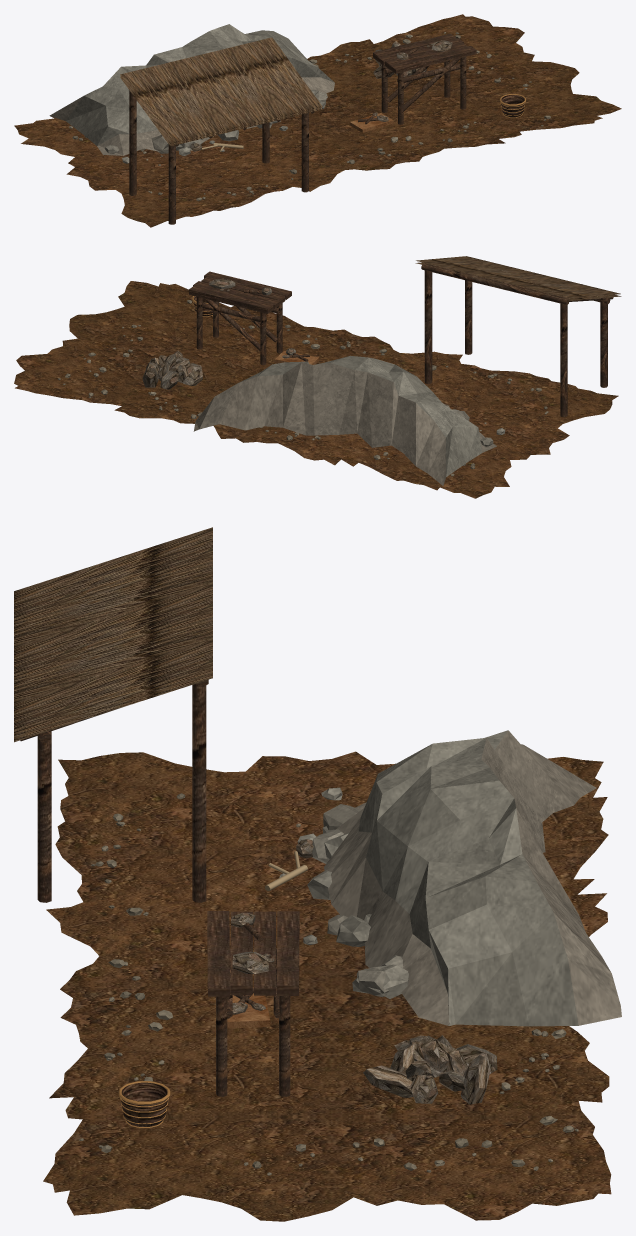
File: quarry@2.glb
3 renders of one model, top to bottom at view 1: azimuth 30°, elevation 25°; view 2: azimuth 150°, elevation 25°; view 3: azimuth 270°, elevation 25°, orthographic. The views are drawn at different scales.
Visible parts, largest first — view 1: part_0, part_9, part_1, part_4, part_3, part_7, part_5; view 2: part_0, part_1, part_4, part_9, part_3; view 3: part_0, part_1, part_9, part_4, part_3, part_7, part_5.
Part boxes in pixels (box(x1,y1,x2,y2)): part_0: box(14, 14, 621, 227); part_9: box(120, 37, 322, 146); part_1: box(49, 24, 550, 201); part_4: box(129, 33, 476, 224); part_3: box(190, 40, 452, 151); part_7: box(501, 94, 524, 117); part_5: box(350, 113, 393, 132); part_0: box(14, 281, 618, 498); part_1: box(57, 300, 548, 485); part_4: box(189, 263, 613, 417); part_9: box(415, 256, 621, 300); part_3: box(142, 278, 449, 407); part_0: box(43, 751, 611, 1221); part_1: box(79, 730, 621, 1175); part_9: box(14, 527, 212, 742); part_4: box(20, 679, 299, 1096); part_3: box(231, 839, 497, 1104); part_7: box(121, 1082, 167, 1126); part_5: box(227, 993, 270, 1028).
Size of the model in its own units: 7.6 by 1.87 by 4.13.
Materials: 10 (7 with a texture image).
